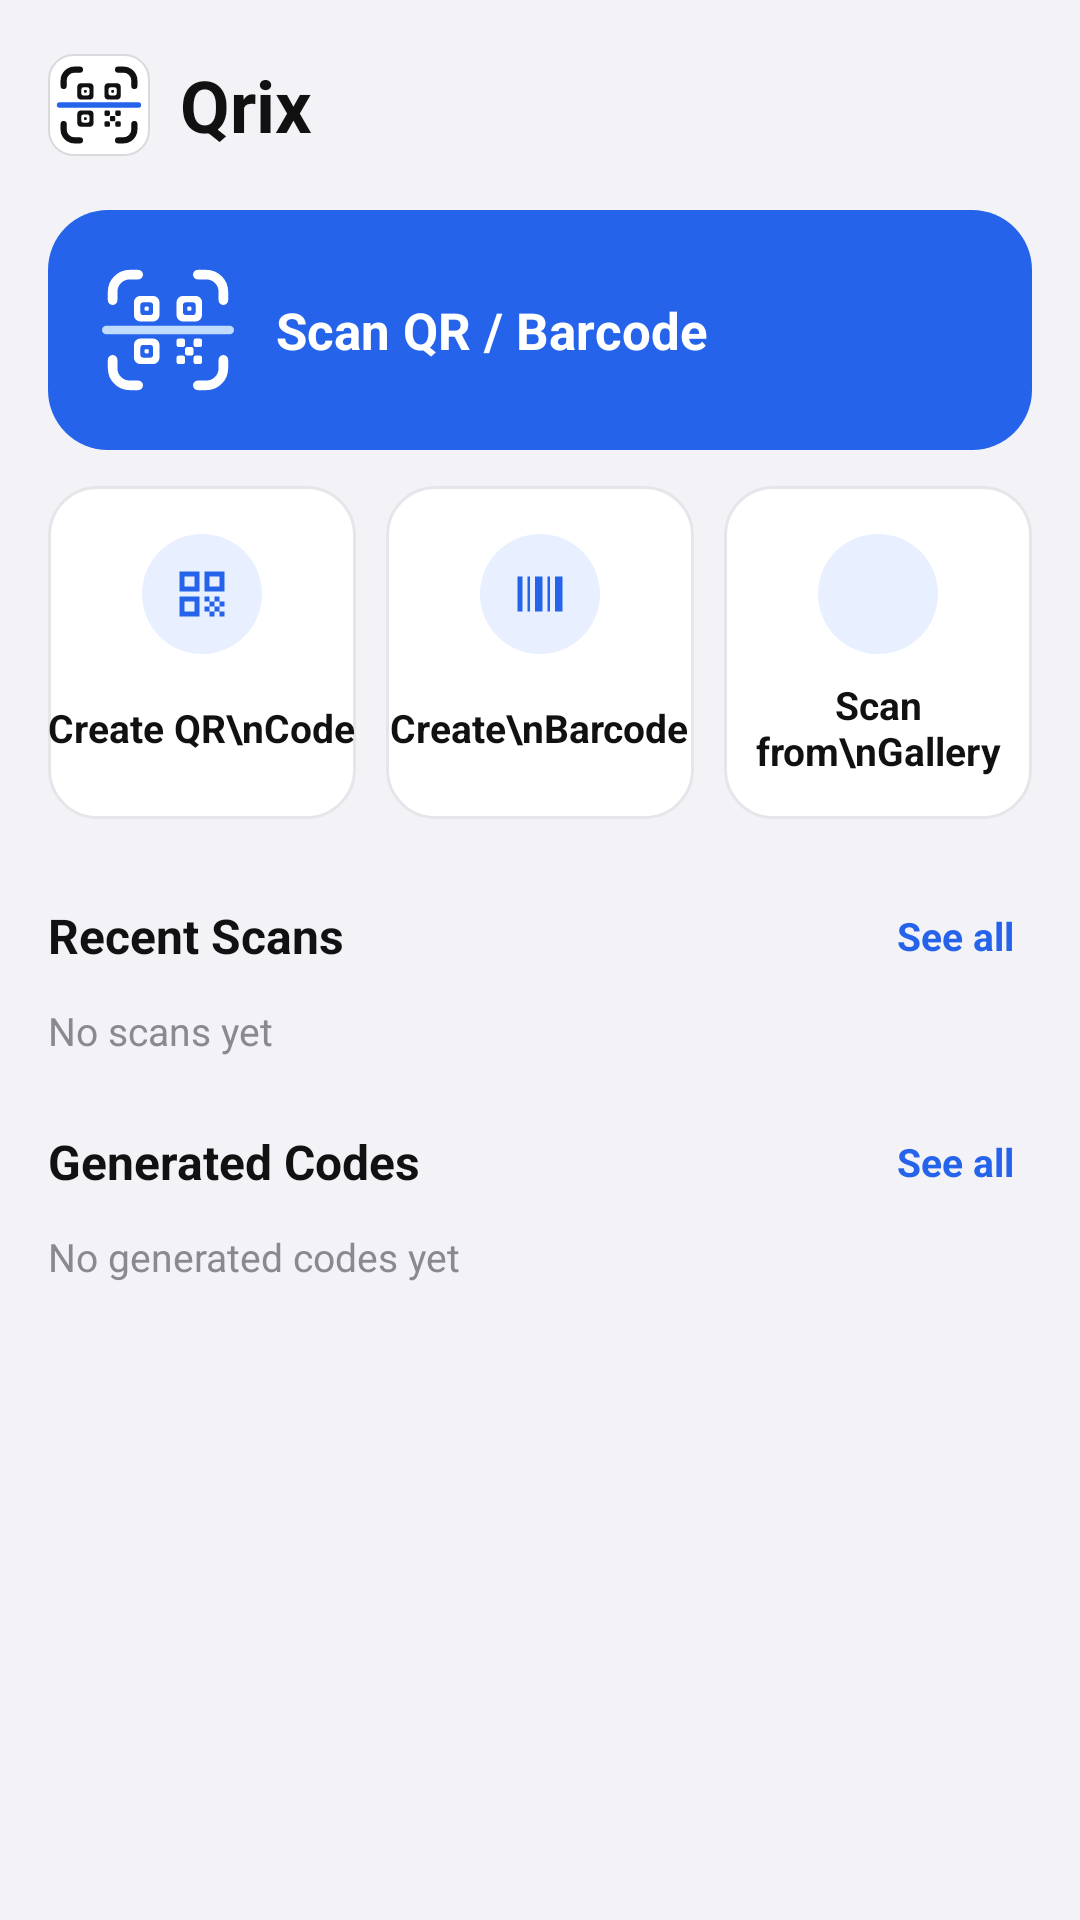

Where icons sit on this 1080*1920 app screen, as (x1, y1, x2, y2):
brand mark: (48, 54, 150, 156)
qr code: (179, 571, 225, 617)
